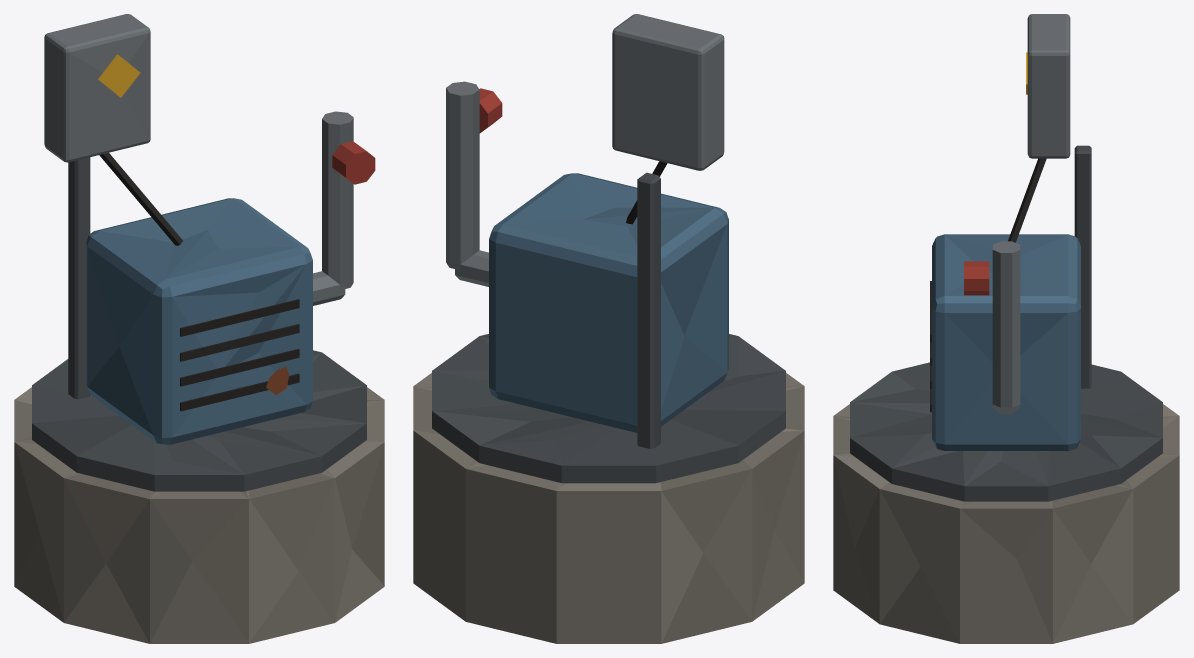
The model's file is well_hand_skvazhina_s_elektronasosom_idle.glb.
3 views of the same model, side by side, from view 1: azimuth 30°, elevation 25°; view 2: azimuth 150°, elevation 25°; view 3: azimuth 270°, elevation 25° (orthographic). The views are drawn at different scales.
Parts seen in each view (by area): view 1: well_hand_skvazhina_s_elektronasosom_idle; view 2: well_hand_skvazhina_s_elektronasosom_idle; view 3: well_hand_skvazhina_s_elektronasosom_idle.
Part boxes in pixels (left/top/right/bottom): well_hand_skvazhina_s_elektronasosom_idle: left=14, top=14, right=384, bottom=643; well_hand_skvazhina_s_elektronasosom_idle: left=413, top=14, right=804, bottom=643; well_hand_skvazhina_s_elektronasosom_idle: left=833, top=14, right=1179, bottom=643.
Size of the model in its own units: 0.8114 by 1.3 by 0.8114.
Materials: 1 (1 with a texture image).
